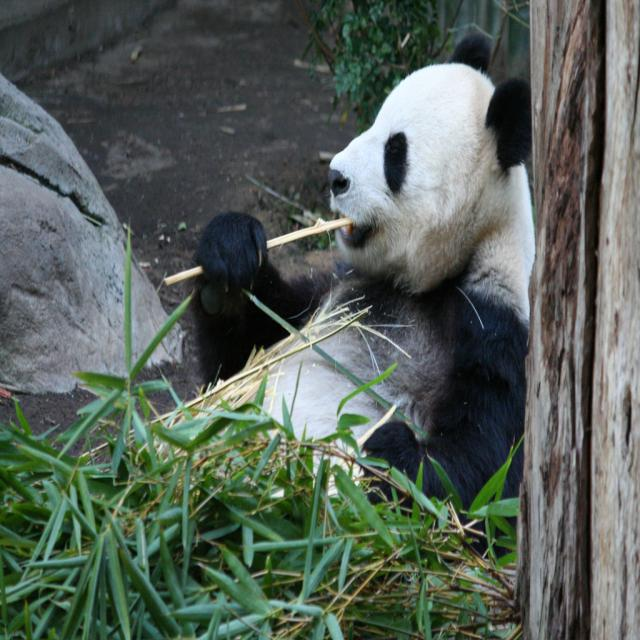panda: (187, 33, 533, 562)
